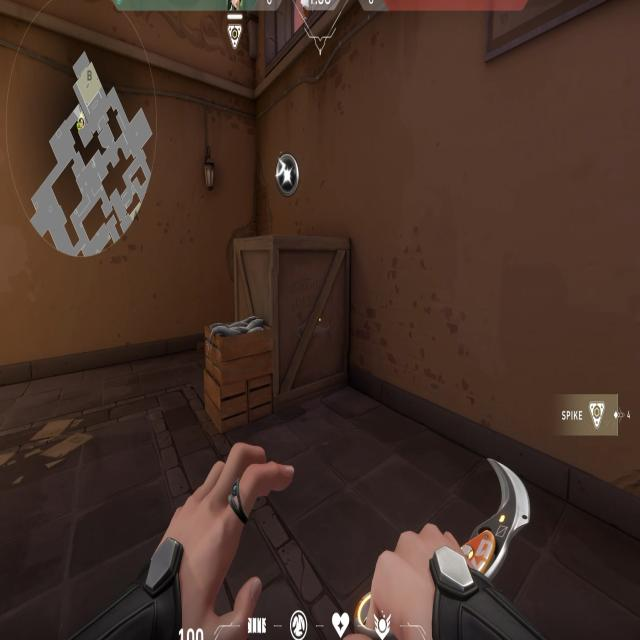B_Main_Wallbang: (196, 149, 354, 435)
